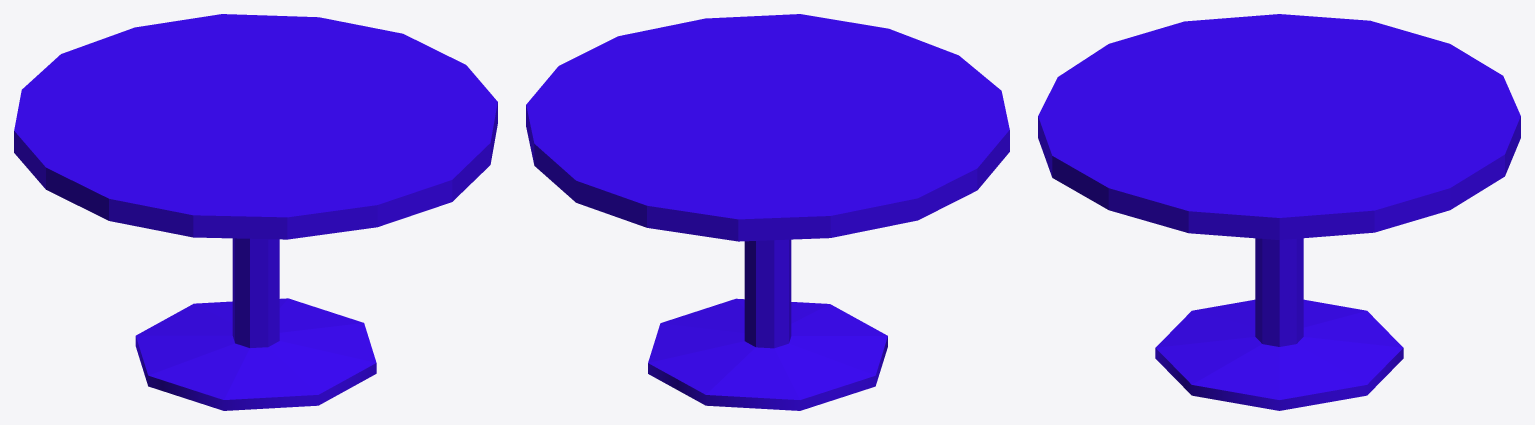
The model's file is office_pack_table_round_small_1_meshCollider.fbx.
The picture shows the model from 3 angles, left to right: view 1: azimuth 30°, elevation 25°; view 2: azimuth 150°, elevation 25°; view 3: azimuth 270°, elevation 25°; orthographic projection.
Visible parts, largest first — view 1: office_pack_table_round_small_1 _meshCollider; view 2: office_pack_table_round_small_1 _meshCollider; view 3: office_pack_table_round_small_1 _meshCollider.
Boxes of the visible parts, x1=… form: office_pack_table_round_small_1 _meshCollider: x1=14, y1=14, x2=497, y2=410; office_pack_table_round_small_1 _meshCollider: x1=526, y1=14, x2=1009, y2=410; office_pack_table_round_small_1 _meshCollider: x1=1038, y1=14, x2=1520, y2=410.
Size of the model in its own units: 79.04 by 43.81 by 79.04.
